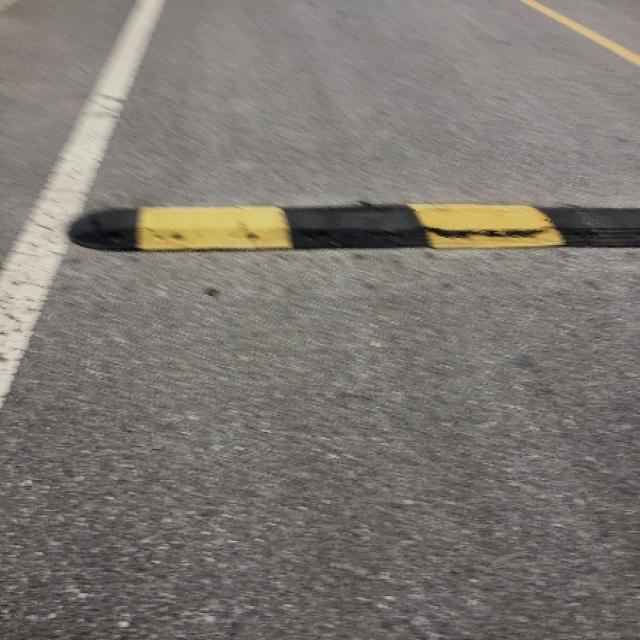Speed Bump: (65, 201, 639, 255)
